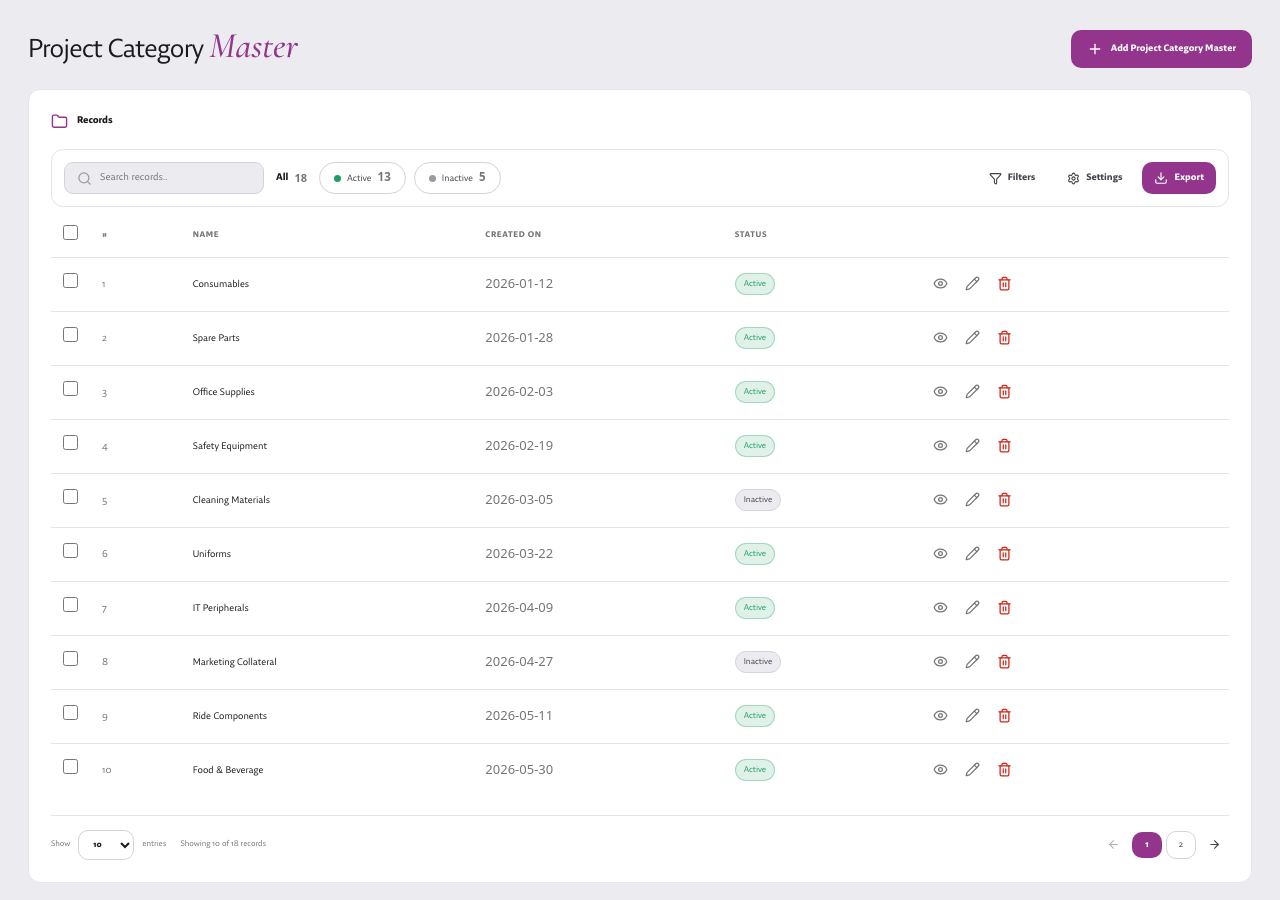
it: MasterPage — Project Category Master (pc mode) › toggles a row's status in place and updates the chip counts
Step 1. Click the button "Active" in the row of "Consumables" → (755, 284), box left=735, top=273, right=775, bottom=295
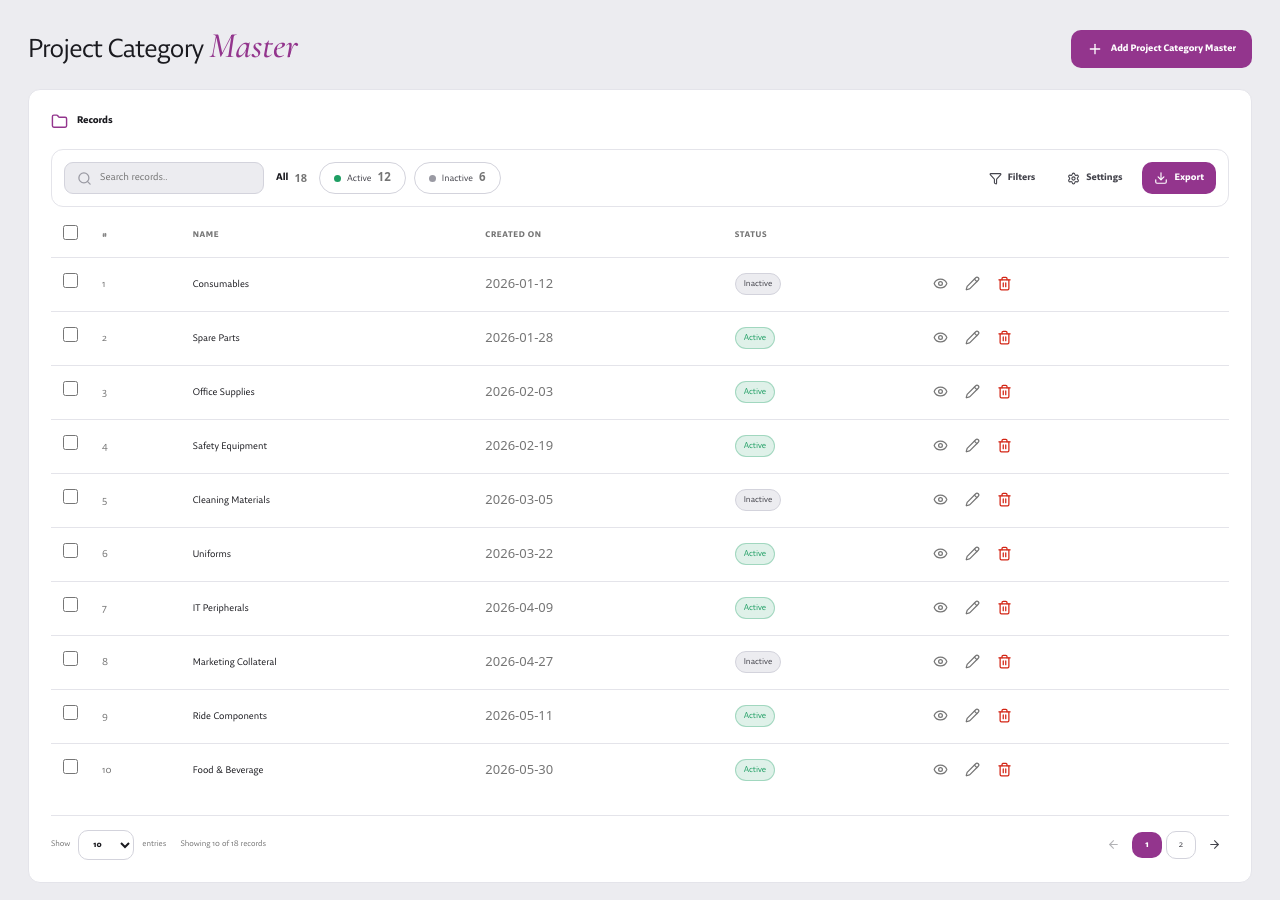
Step 2. Click the button with test id "status-chip-inactive" → (457, 178), box left=414, top=162, right=501, bottom=194
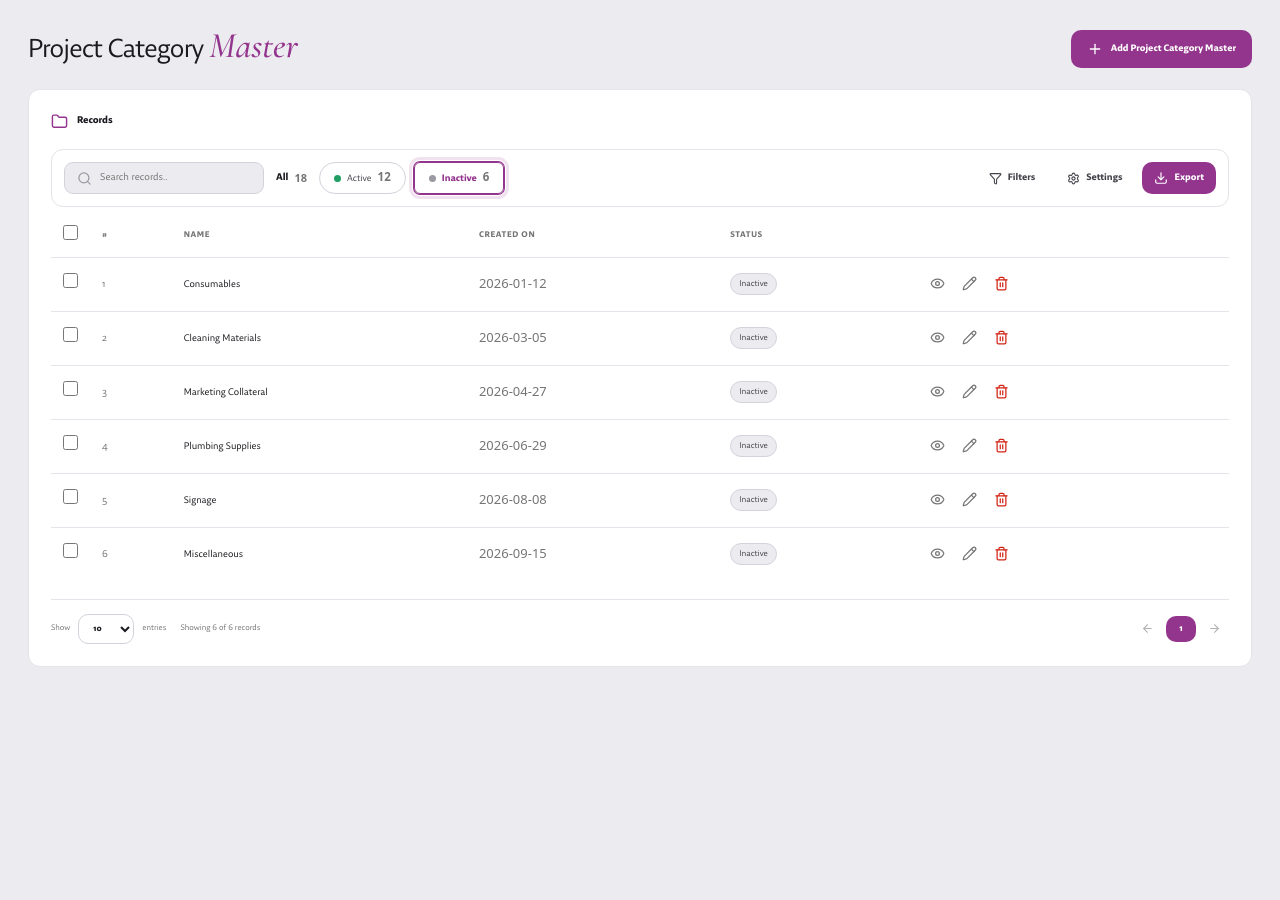
Result: the text "Showing 6 of 6 records" is shown at left=180, top=621, right=260, bottom=637
